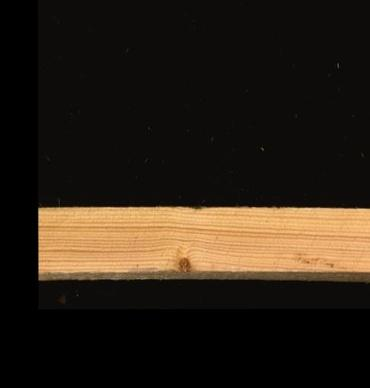edge_knot: (176, 254, 190, 274)
